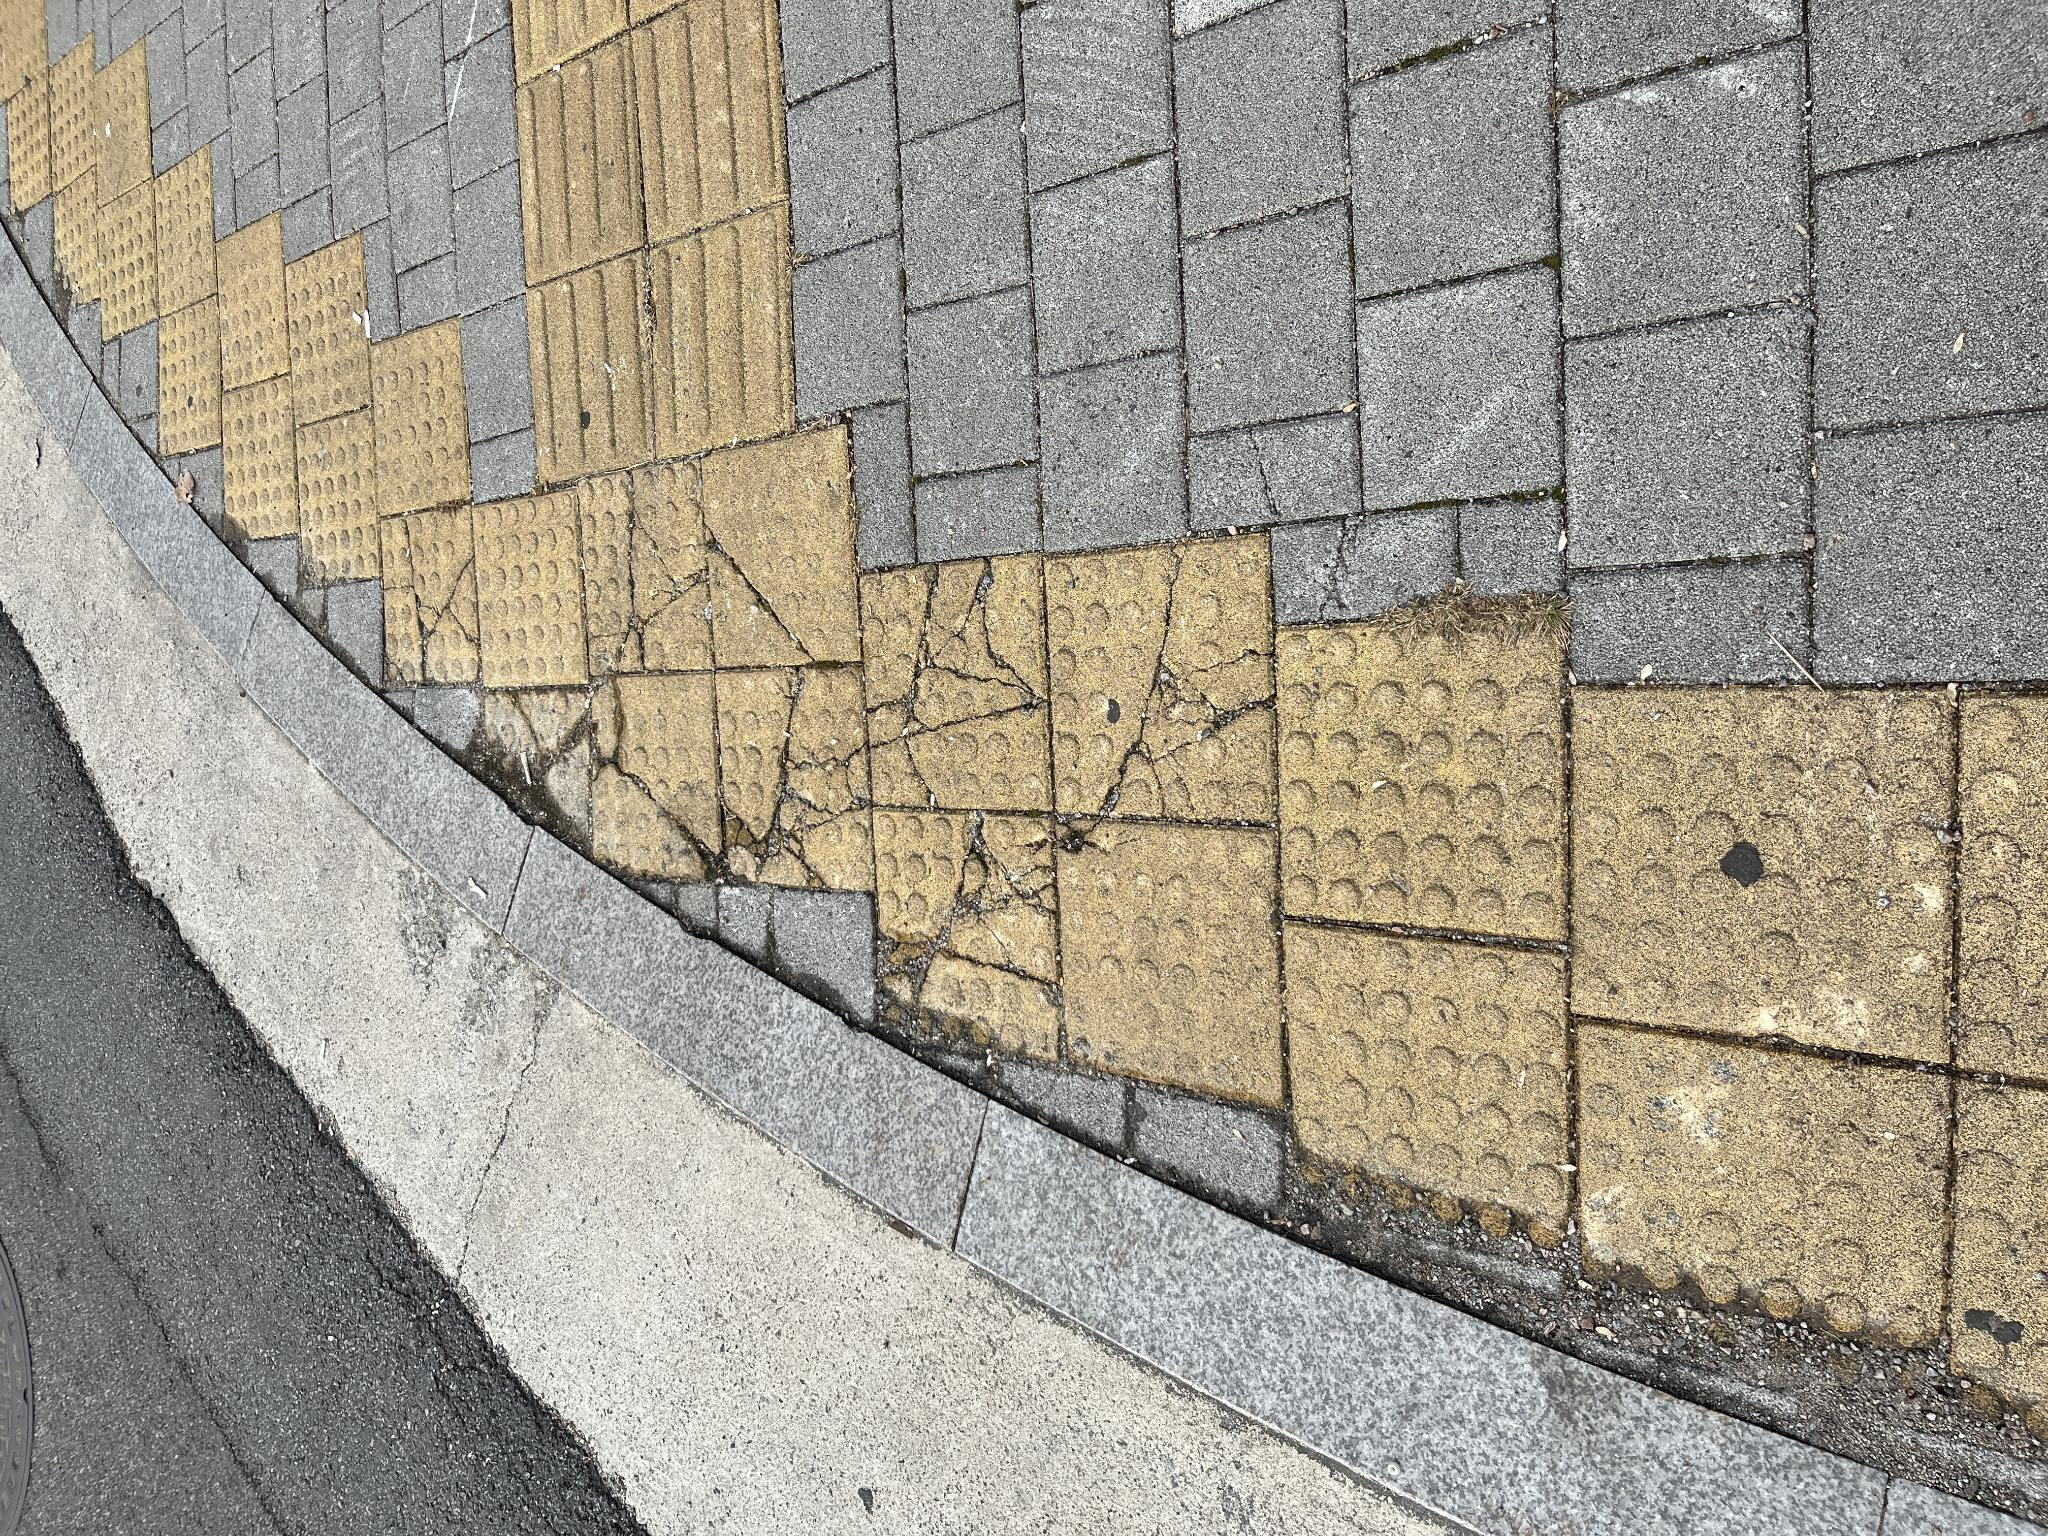Stop block broken: (476, 873, 726, 1058), (648, 718, 871, 870), (863, 578, 1079, 712)
Stop block normal: (601, 1276, 924, 1536), (848, 474, 1047, 587), (1021, 371, 1218, 470)
Straight block normal: (1076, 650, 1330, 792)
